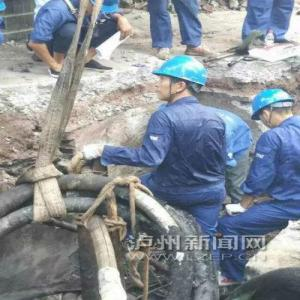blue: (150, 56, 210, 103), (250, 89, 296, 128)
